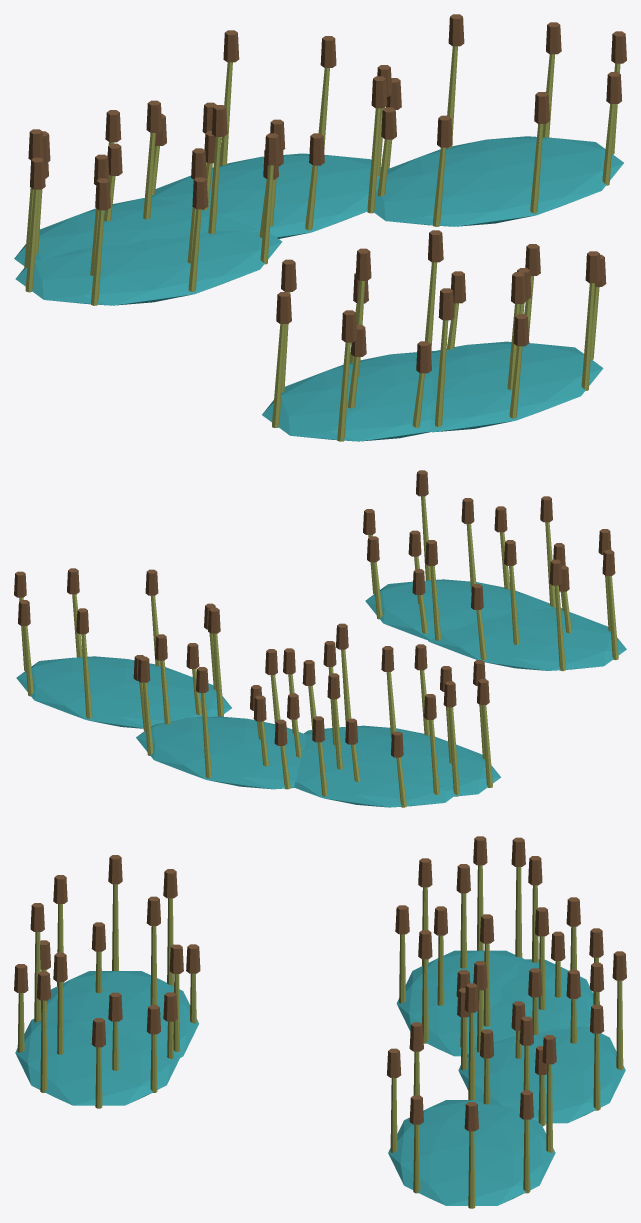
Rendered from FEATURE_MARSH_v02.fbx.
3 views of the same model, one above another, from view 1: azimuth 30°, elevation 25°; view 2: azimuth 150°, elevation 25°; view 3: azimuth 270°, elevation 25° (orthographic). The views are drawn at different scales.
Visible parts, largest first — view 1: Marsh_pool.016, Marsh_pool.017, Marsh_pool.013, Marsh_pool.014, Marsh_pool.012, Marsh_pool.015, Reed.111, Reed.102, Reed.132, Reed.100, Reed.140, Reed.101 (+7 smaller); view 2: Marsh_pool.016, Marsh_pool.014, Marsh_pool.012, Marsh_pool.015, Marsh_pool.013, Marsh_pool.017, Reed.124, Reed.099, Reed.114, Reed.130, Reed.100, Reed.132 (+1 smaller); view 3: Marsh_pool.016, Marsh_pool.013, Marsh_pool.014, Marsh_pool.012, Marsh_pool.017, Marsh_pool.015, Reed.111, Reed.124, Reed.114, Reed.132, Reed.130, Reed.100 (+2 smaller).
Boxes of the visible parts, x1,y1,x2,y2 form: Marsh_pool.016: (373,136,623,226); Marsh_pool.017: (15,230,282,305); Marsh_pool.013: (427,341,603,432); Marsh_pool.014: (151,153,380,238); Marsh_pool.012: (262,351,435,441); Marsh_pool.015: (14,198,258,265); Reed.111: (581,283,594,390); Reed.102: (435,320,448,426); Reed.132: (367,108,380,213); Reed.100: (272,324,285,427); Reed.140: (25,189,39,292); Reed.101: (337,342,350,441); Marsh_pool.016: (16,656,231,728); Marsh_pool.014: (136,716,307,789); Marsh_pool.012: (428,608,626,670); Marsh_pool.015: (294,735,453,807); Marsh_pool.013: (365,579,562,640); Marsh_pool.017: (304,725,500,796); Reed.124: (449,707,459,796); Reed.099: (554,585,565,671); Reed.114: (201,693,211,778); Reed.130: (81,634,92,718); Reed.100: (607,576,618,659); Reed.132: (213,633,223,716); Marsh_pool.016: (388,1100,555,1205); Marsh_pool.013: (15,1018,179,1105); Marsh_pool.014: (458,1026,625,1123); Marsh_pool.012: (41,971,198,1057); Marsh_pool.017: (396,950,526,1056); Marsh_pool.015: (474,959,593,1046); Reed.111: (40,1000,47,1092); Reed.124: (515,867,522,957); Reed.114: (616,980,623,1070); Reed.132: (468,1012,475,1100); Reed.130: (546,1064,552,1152); Reed.100: (112,884,118,970).
Bounding box in the file's own units: 104 × 24.51 × 102.
